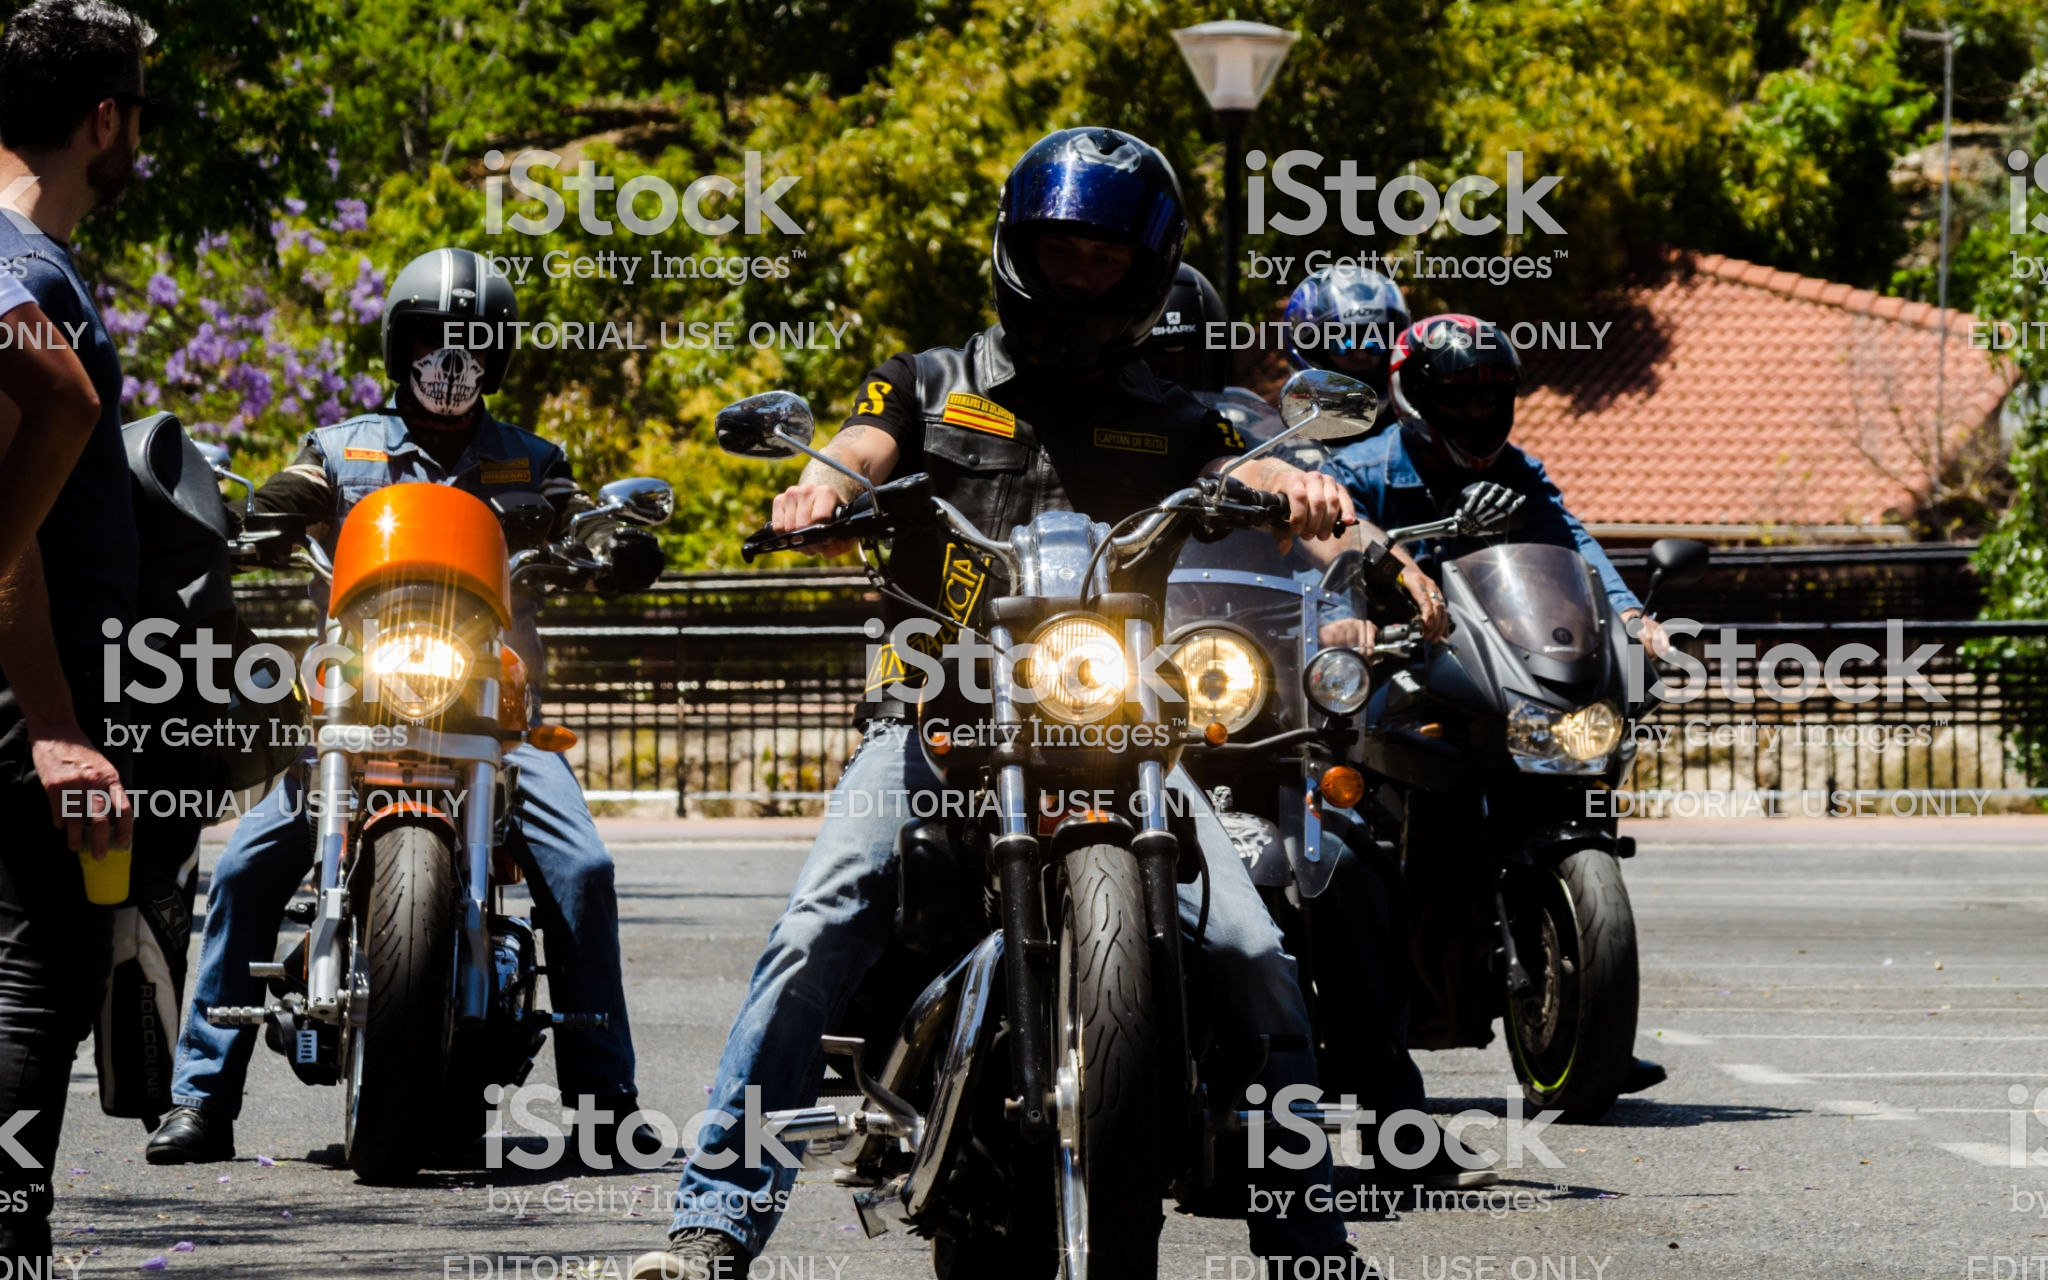helmet: (983, 122, 1197, 357), (377, 260, 548, 391), (1395, 321, 1533, 453)
